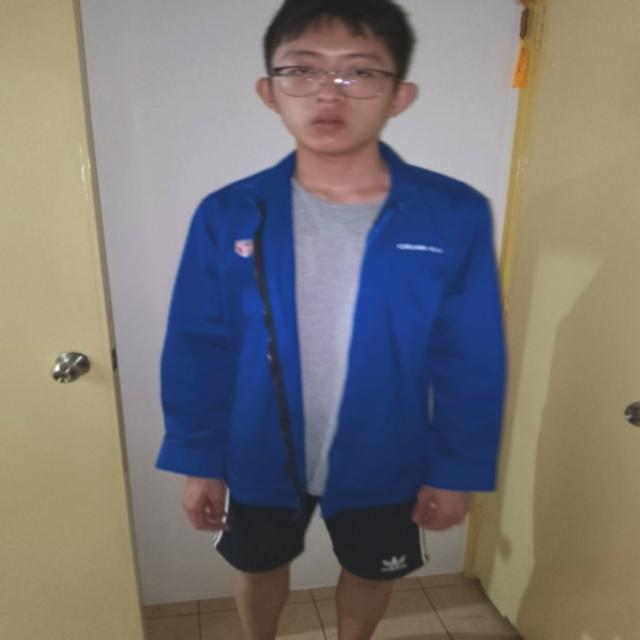person_with_labcoat: (156, 0, 504, 640)
